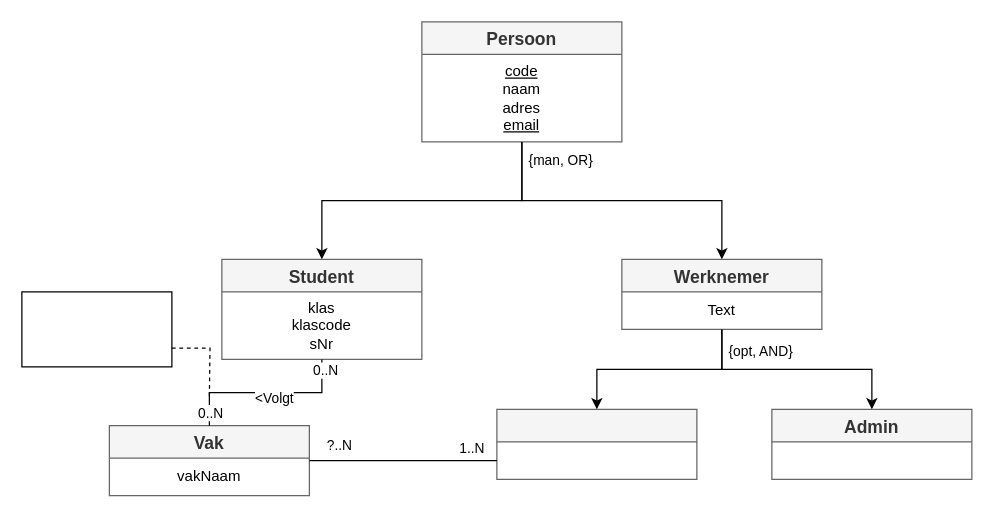
This 994x518 diagram has some shape labels left out. The centre of each missing label's shape, as x and y in pixels:
Lector: [596,443]
Resultaat: [96,329]
